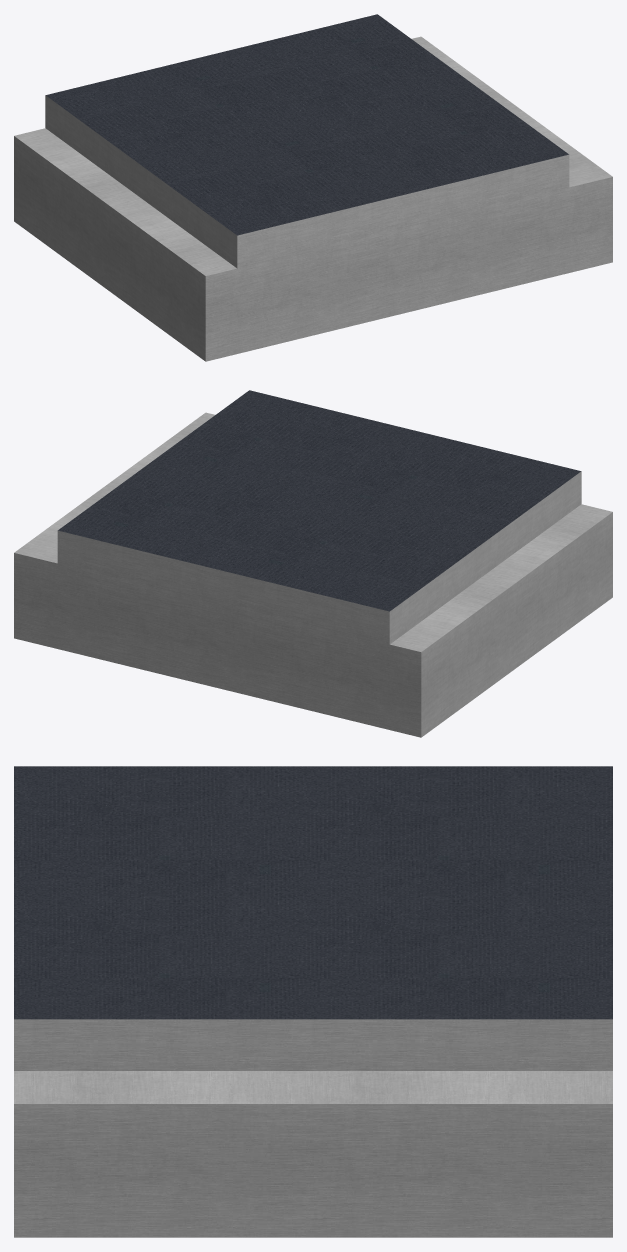
The model's file is wind_tunnel_down.dae.
3 views of the same model, one above another, from view 1: azimuth 30°, elevation 25°; view 2: azimuth 150°, elevation 25°; view 3: azimuth 270°, elevation 25° (orthographic). The views are drawn at different scales.
Visible parts, largest first — view 1: SketchUp (×2); view 2: SketchUp (×2); view 3: SketchUp (×2).
Boxes of the visible parts, left/top/right/bottom form: SketchUp (×2): left=14, top=14, right=612, bottom=361; SketchUp (×2): left=14, top=390, right=612, bottom=737; SketchUp (×2): left=14, top=766, right=612, bottom=1237.
Bounding box in the file's own units: 158 × 129 × 43.9.
Materials: 2 (2 with a texture image).
